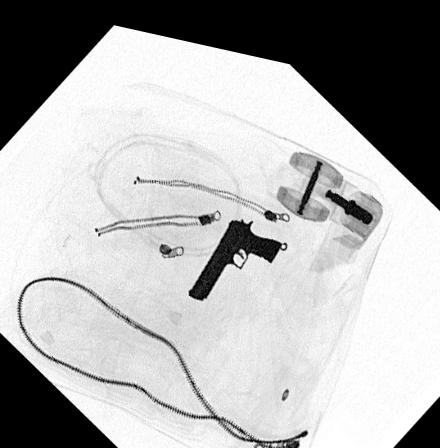Gun: (185, 207, 283, 296)
